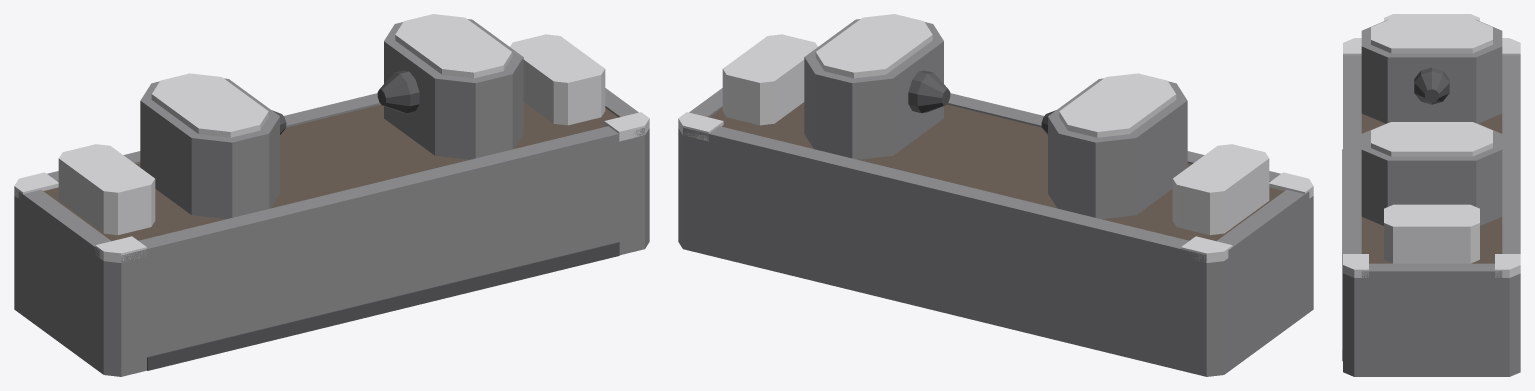
The model's file is vge_compact_fab_bench.obj.
3 views of the same model, side by side, from view 1: azimuth 30°, elevation 25°; view 2: azimuth 150°, elevation 25°; view 3: azimuth 270°, elevation 25° (orthographic). The views are drawn at different scales.
Parts seen in each view (by area): view 1: vge_compact_fab_bench_0, vge_compact_fab_bench_1, vge_compact_fab_bench_11, vge_compact_fab_bench_15, vge_compact_fab_bench_2, vge_compact_fab_bench_10, vge_compact_fab_bench_14, vge_compact_fab_bench_18, vge_compact_fab_bench_12, vge_compact_fab_bench_16, vge_compact_fab_bench_4, vge_compact_fab_bench_3 (+4 smaller); view 2: vge_compact_fab_bench_0, vge_compact_fab_bench_1, vge_compact_fab_bench_11, vge_compact_fab_bench_15, vge_compact_fab_bench_3, vge_compact_fab_bench_14, vge_compact_fab_bench_18, vge_compact_fab_bench_12, vge_compact_fab_bench_16, vge_compact_fab_bench_4, vge_compact_fab_bench_2, vge_compact_fab_bench_17 (+3 smaller); view 3: vge_compact_fab_bench_0, vge_compact_fab_bench_11, vge_compact_fab_bench_15, vge_compact_fab_bench_18, vge_compact_fab_bench_12, vge_compact_fab_bench_16, vge_compact_fab_bench_2, vge_compact_fab_bench_3, vge_compact_fab_bench_1, vge_compact_fab_bench_5, vge_compact_fab_bench_13, vge_compact_fab_bench_9 (+5 smaller).
Boxes of the visible parts, x1,y1,x2,y2 form: vge_compact_fab_bench_0: (14, 128, 649, 376); vge_compact_fab_bench_1: (43, 102, 618, 240); vge_compact_fab_bench_11: (140, 78, 279, 219); vge_compact_fab_bench_15: (384, 19, 523, 159); vge_compact_fab_bench_2: (121, 126, 644, 262); vge_compact_fab_bench_10: (147, 242, 619, 370); vge_compact_fab_bench_14: (58, 144, 155, 235); vge_compact_fab_bench_18: (510, 34, 605, 125); vge_compact_fab_bench_12: (151, 73, 268, 137); vge_compact_fab_bench_16: (395, 14, 512, 78); vge_compact_fab_bench_4: (18, 190, 111, 257); vge_compact_fab_bench_3: (47, 93, 380, 181); vge_compact_fab_bench_0: (678, 128, 1313, 376); vge_compact_fab_bench_1: (709, 102, 1284, 240); vge_compact_fab_bench_11: (1048, 78, 1187, 219); vge_compact_fab_bench_15: (804, 19, 943, 159); vge_compact_fab_bench_3: (683, 126, 1206, 262); vge_compact_fab_bench_14: (1172, 144, 1269, 235); vge_compact_fab_bench_18: (722, 34, 817, 125); vge_compact_fab_bench_12: (1059, 73, 1176, 137); vge_compact_fab_bench_16: (815, 14, 932, 78); vge_compact_fab_bench_4: (1216, 190, 1309, 257); vge_compact_fab_bench_2: (947, 93, 1280, 181); vge_compact_fab_bench_17: (908, 70, 950, 113); vge_compact_fab_bench_0: (1343, 273, 1520, 376); vge_compact_fab_bench_11: (1361, 19, 1502, 123); vge_compact_fab_bench_15: (1361, 123, 1502, 225); vge_compact_fab_bench_18: (1384, 204, 1479, 263); vge_compact_fab_bench_12: (1371, 18, 1492, 53); vge_compact_fab_bench_16: (1371, 122, 1492, 156); vge_compact_fab_bench_2: (1343, 55, 1361, 253); vge_compact_fab_bench_3: (1502, 55, 1520, 253); vge_compact_fab_bench_1: (1361, 113, 1502, 263); vge_compact_fab_bench_5: (1361, 263, 1502, 277); vge_compact_fab_bench_13: (1414, 67, 1449, 104); vge_compact_fab_bench_9: (1495, 254, 1520, 277).
Size of the model in its own units: 2.96 by 1.05 by 0.965.
